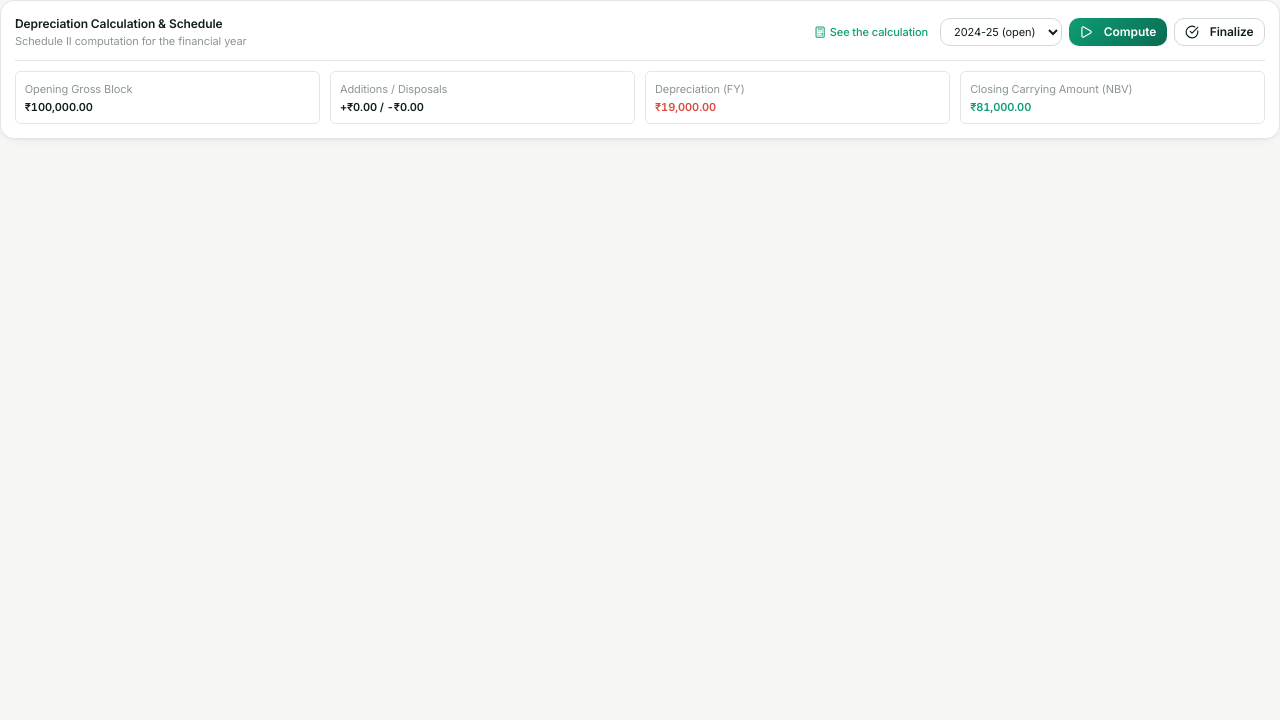
Test: DepreciationRunCard calculation drawer › says so when a run predates traces, and offers a projection
Click the button "See the calculation". click: (871, 32)
box: [809,20,933,44]
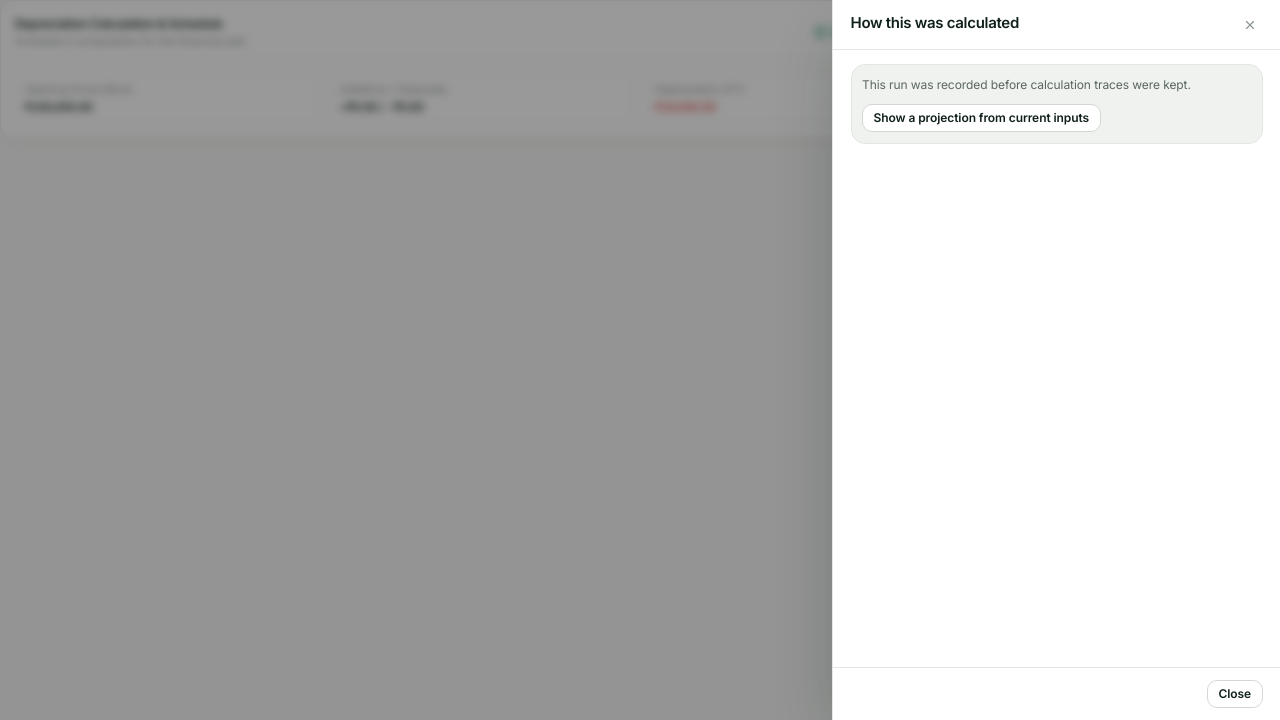
Check: the text "Depreciable base" is not shown
Check: the text "This run was recorded before calculation traces were kept." is shown, box [862,76,1191,92]
Click the button "Show a projection from current inputs". click: (981, 118)
box: [862,104,1100,132]
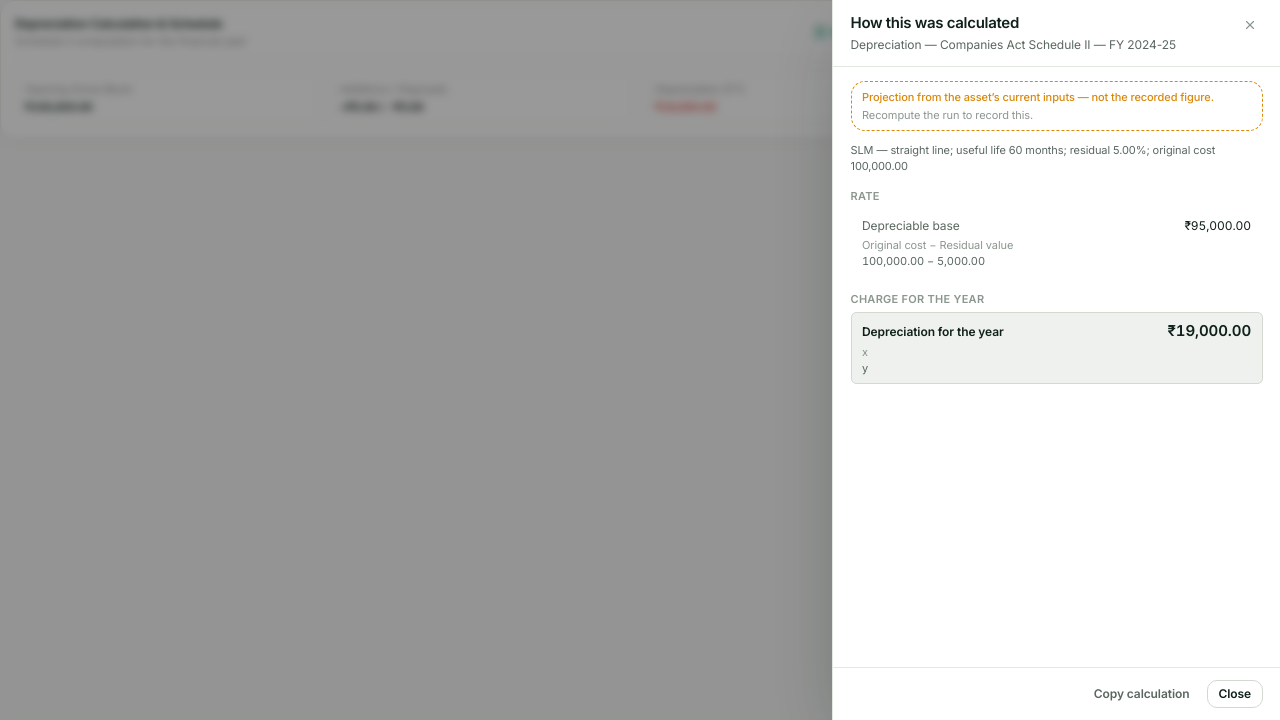
Check: the text "not the recorded figure" is shown, box [862,90,1214,104]
